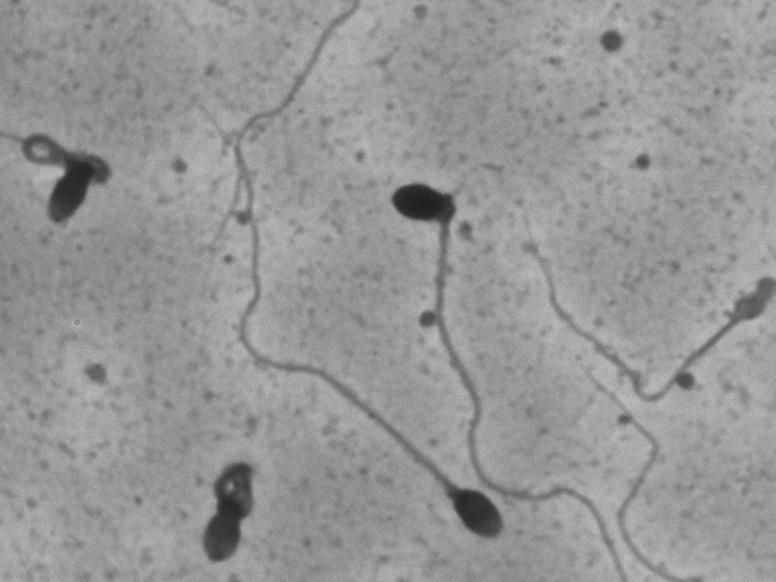Abnormal: (384, 112, 525, 416), (12, 95, 120, 275), (175, 433, 294, 573)
Normal: (163, 74, 542, 567)
